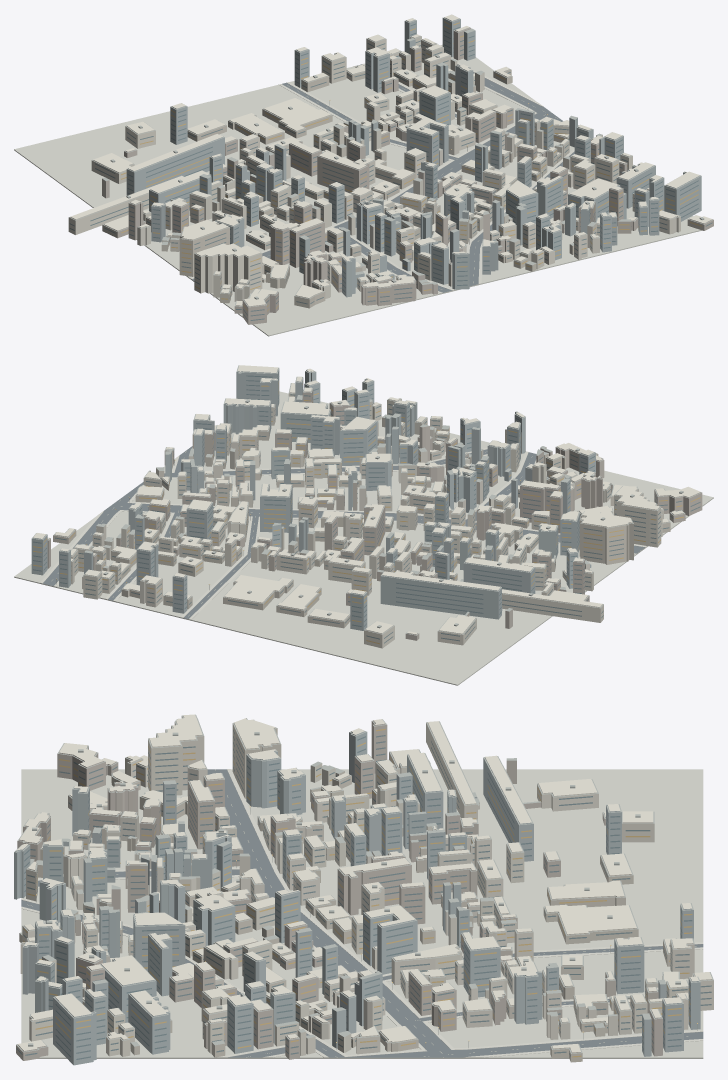
3 views of the same model, one above another, from view 1: azimuth 30°, elevation 25°; view 2: azimuth 150°, elevation 25°; view 3: azimuth 270°, elevation 25° (orthographic). The views are drawn at different scales.
Parts seen in each view (by area): view 1: city; view 2: city; view 3: city.
Part boxes in pixels (x1,y1,x2,y2): city: [14, 14, 713, 336]; city: [14, 365, 713, 685]; city: [14, 714, 713, 1065].
Size of the model in its own units: 563 by 42.45 by 513.
